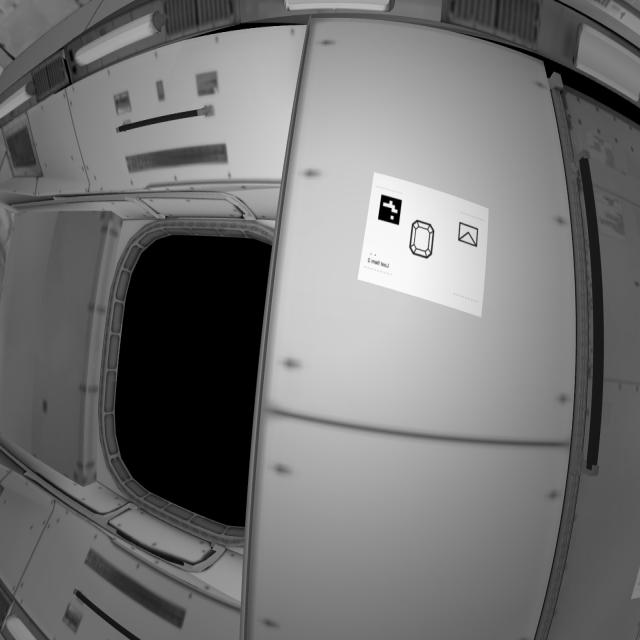emerald: (407, 214, 438, 263)
letter: (449, 216, 484, 253)
